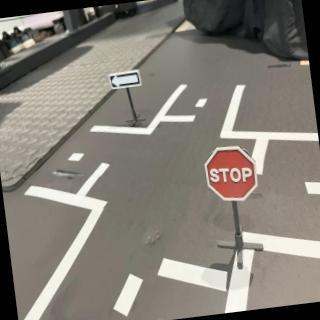sign_oneway_left: (109, 69, 145, 92)
sign_stop: (203, 141, 263, 209)
